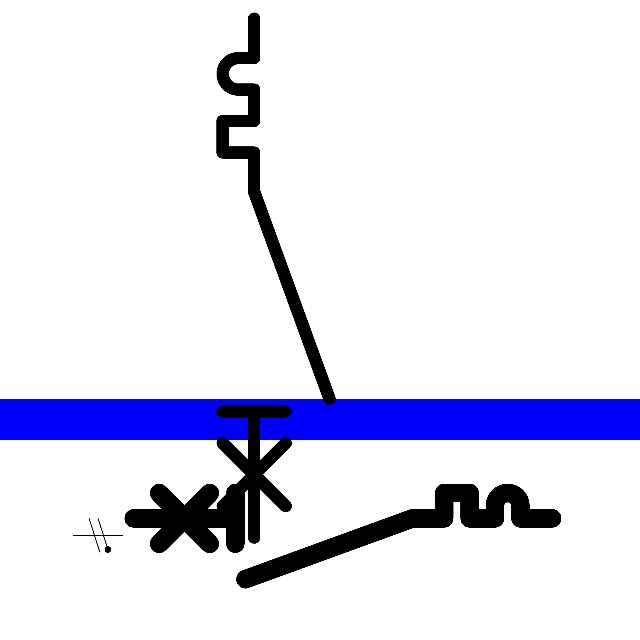interruptor_termomagnetico: (209, 5, 342, 551), (122, 482, 562, 589)
